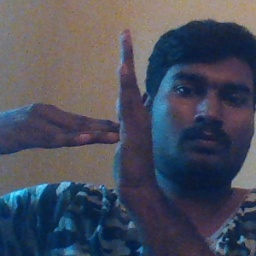Z: (36, 27, 159, 198)
